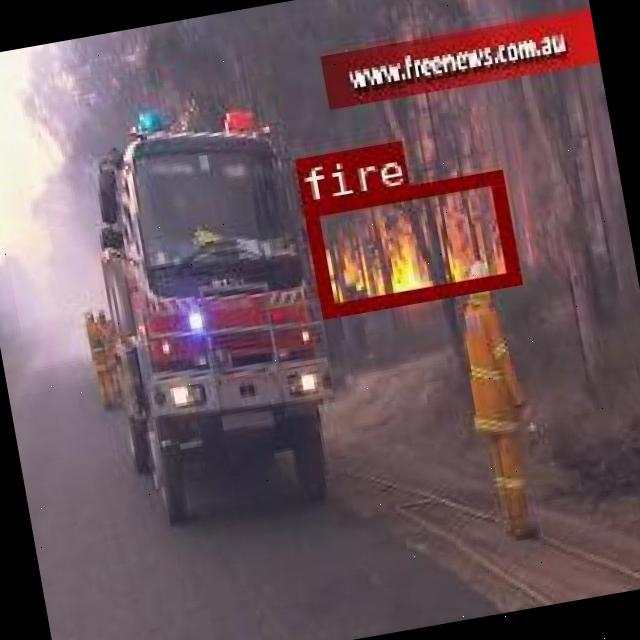fire: (300, 168, 518, 316)
